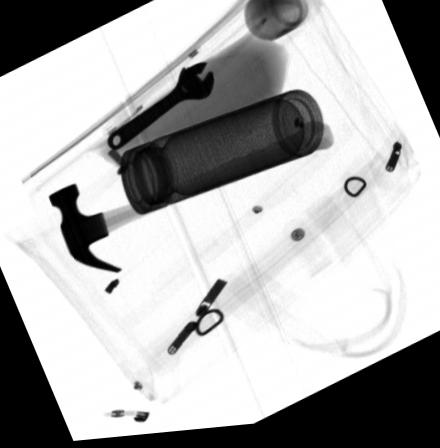Hammer: (48, 127, 333, 274)
Wrench: (107, 64, 214, 153)
